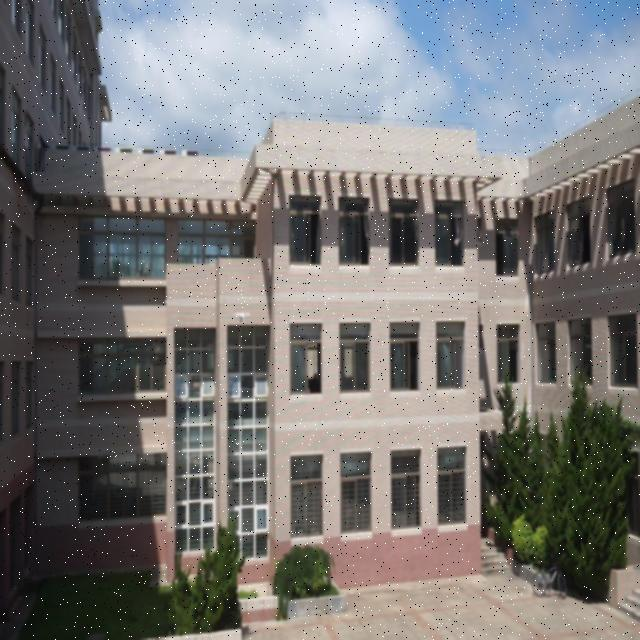UAV: (234, 312, 252, 324)
